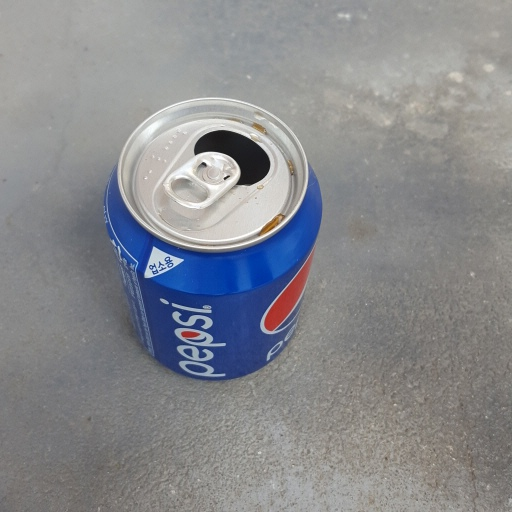Metal_0: (103, 95, 325, 387)
